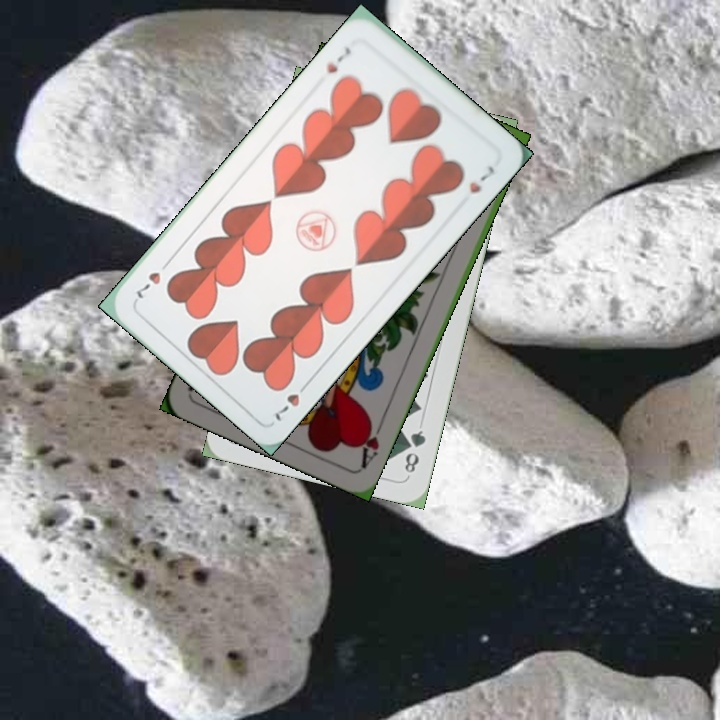G8: (400, 426, 429, 476)
H7: (271, 376, 313, 424), (322, 42, 354, 76)
HA: (354, 414, 388, 471)
